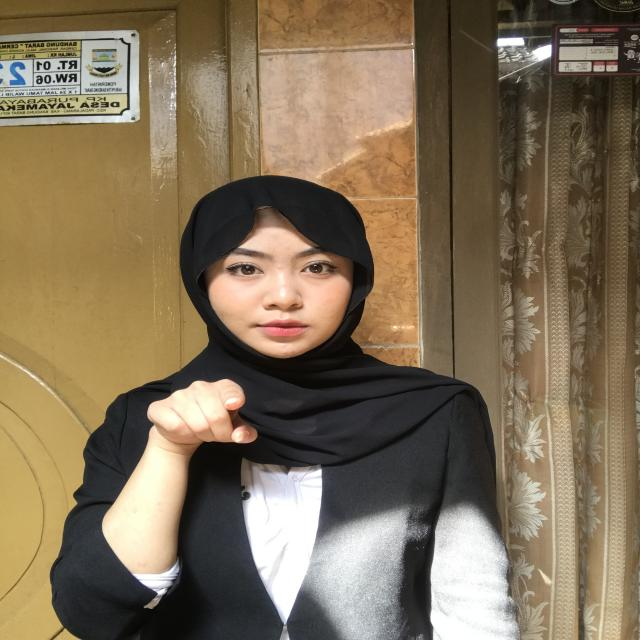kamu: (128, 371, 279, 471)
